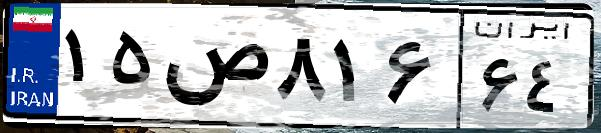1: (330, 28, 385, 110), (57, 26, 110, 100)
4: (525, 38, 570, 115)
5: (110, 28, 158, 98)
6: (385, 28, 445, 110), (475, 38, 525, 113)
8: (270, 28, 330, 110)
ص: (158, 20, 270, 120)
